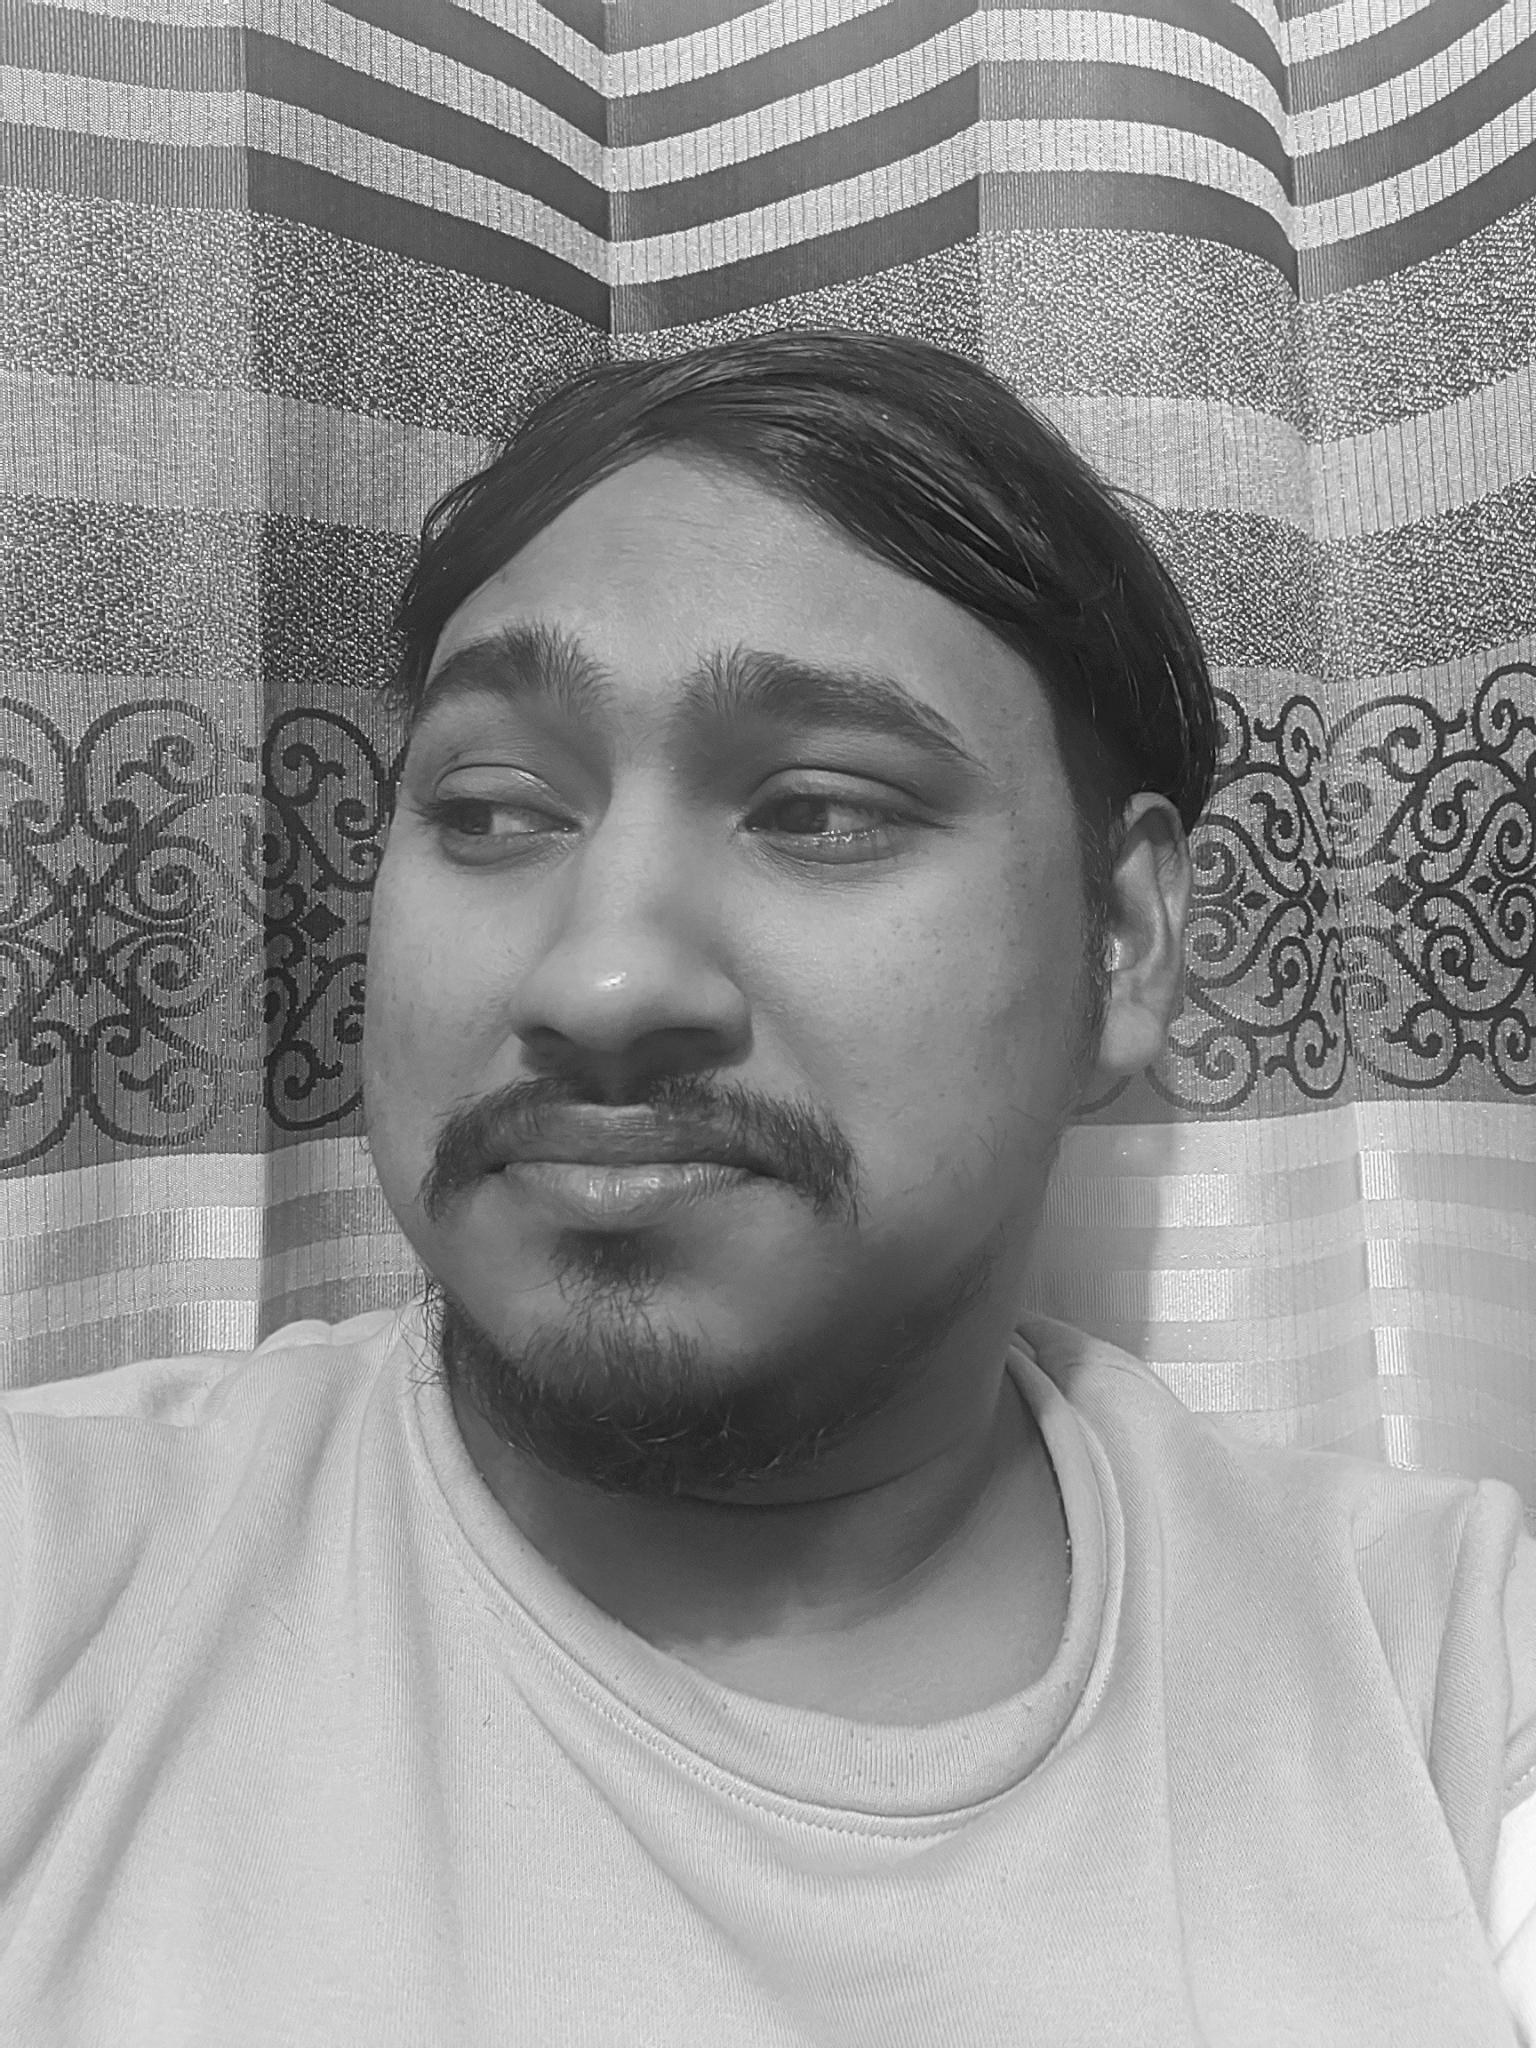Sad: (361, 561, 1055, 1411)
